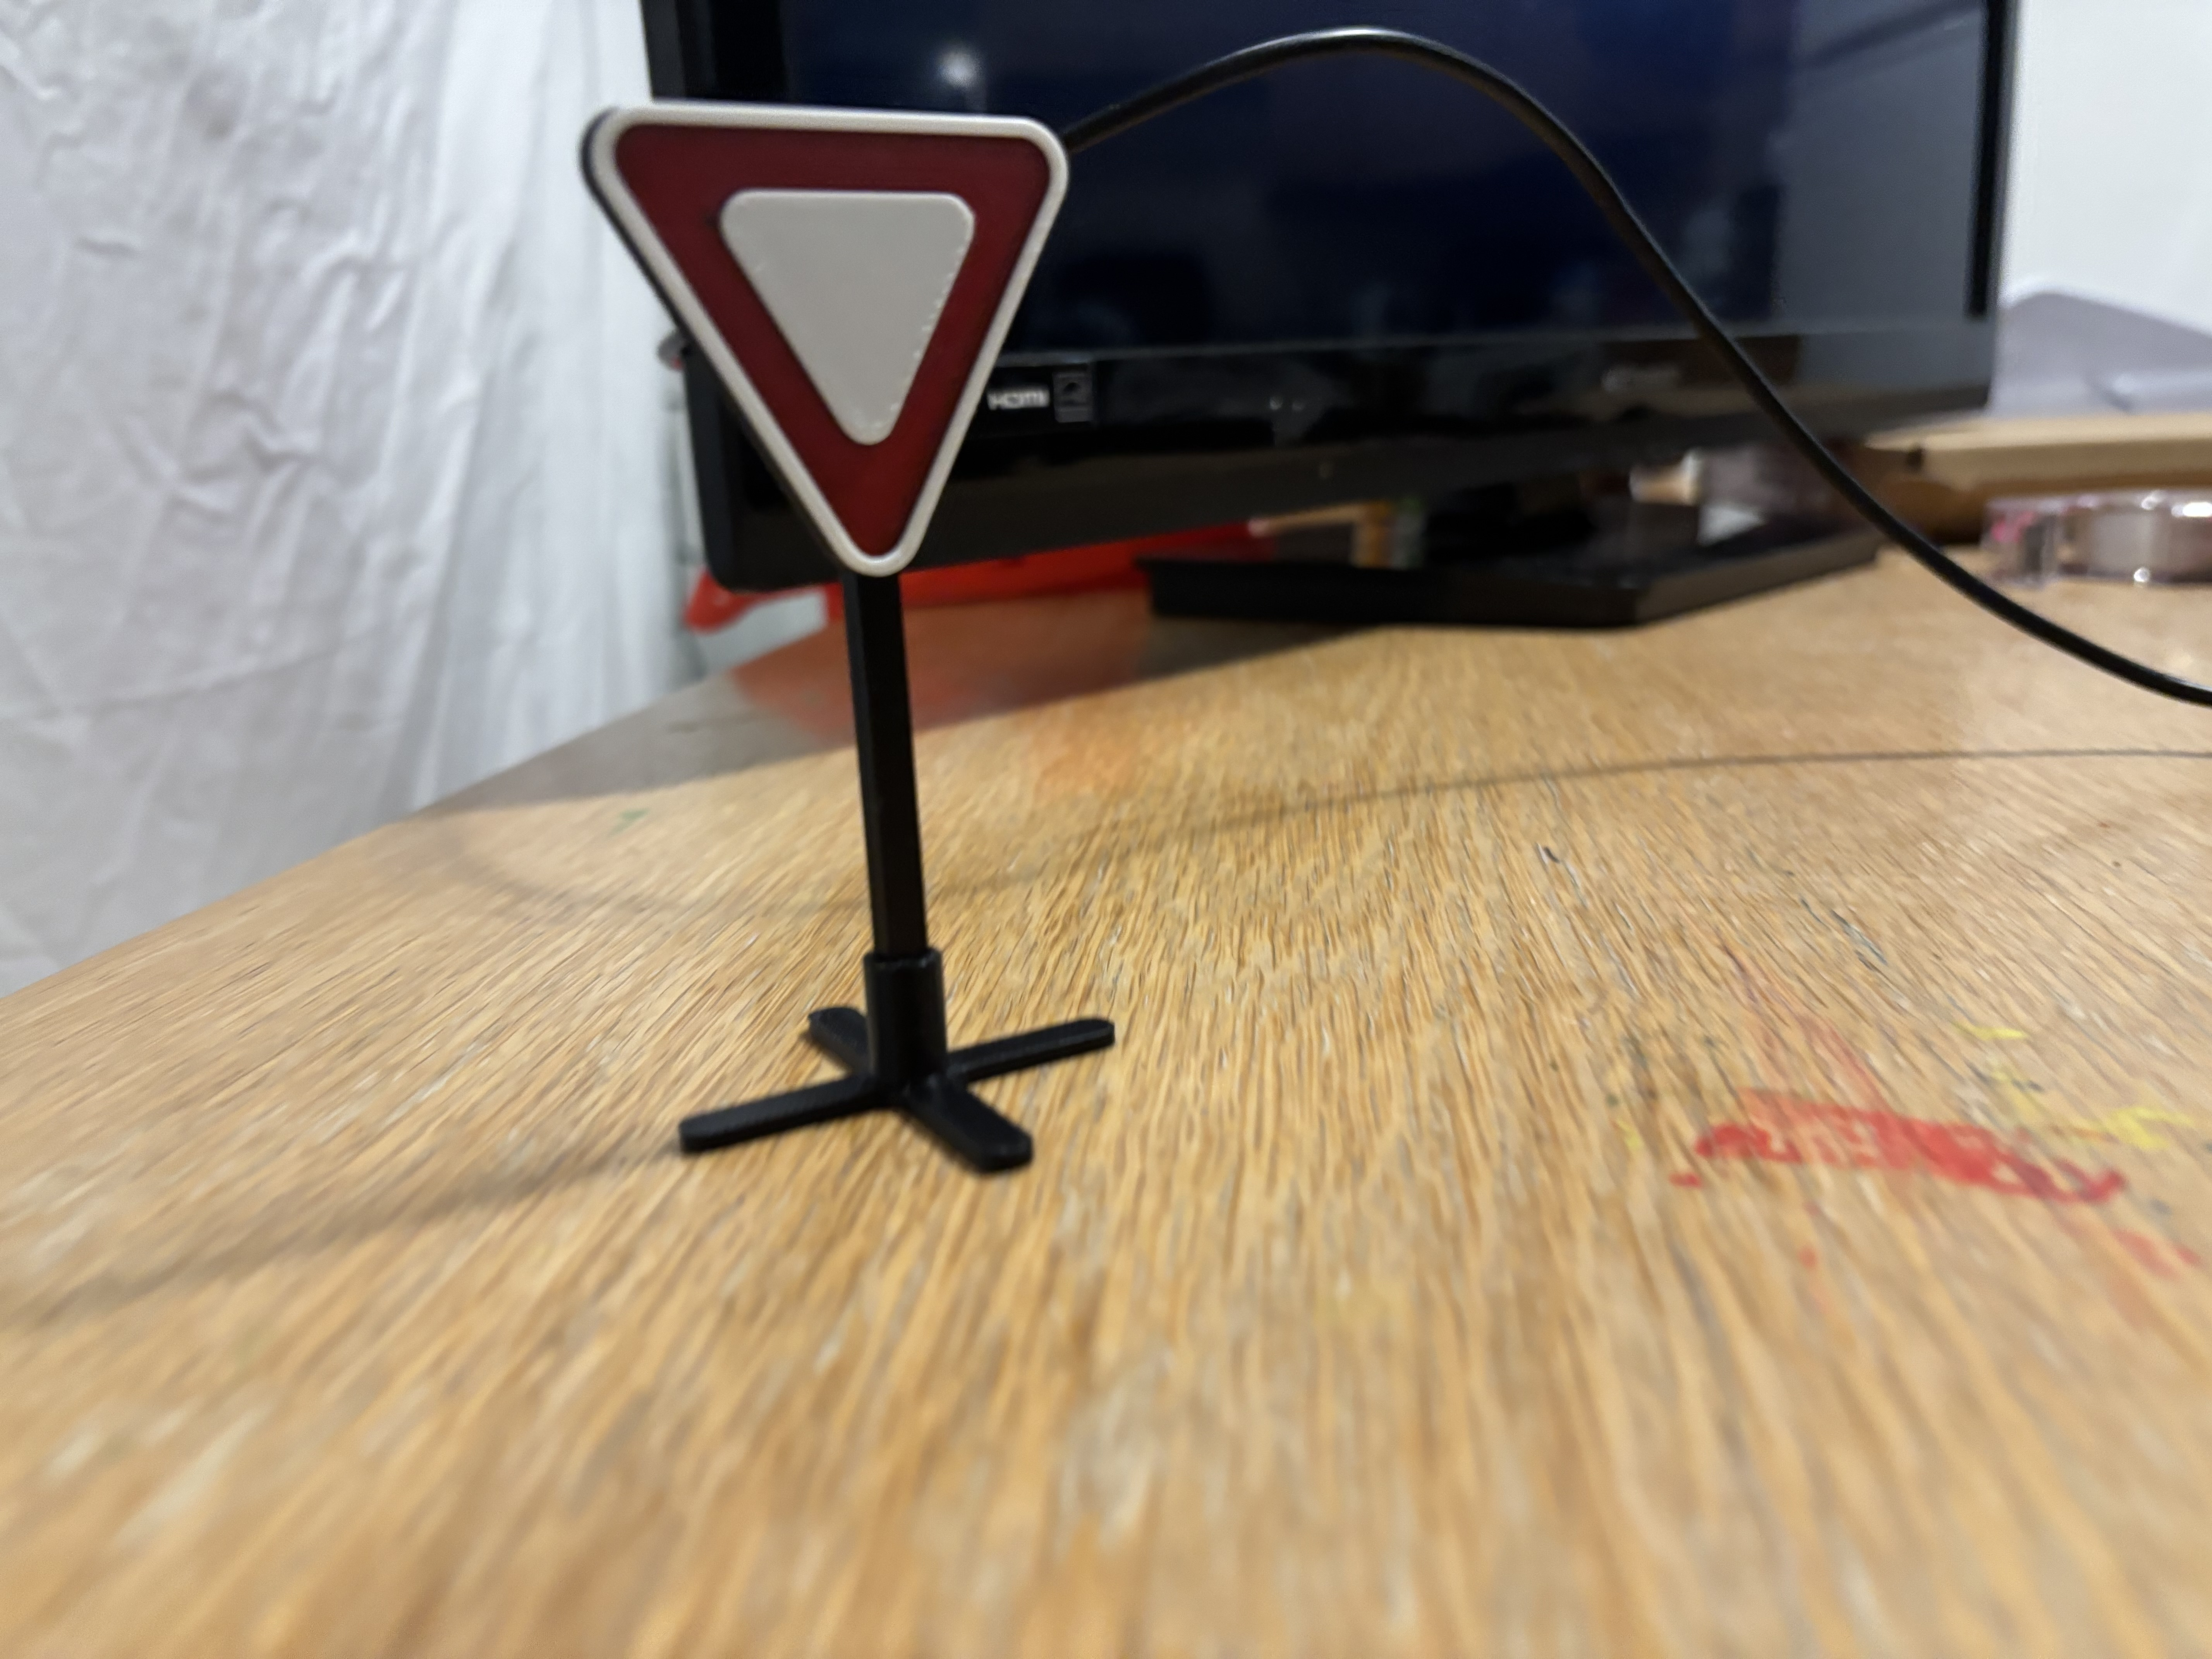sign_yield: (538, 94, 1078, 599)
